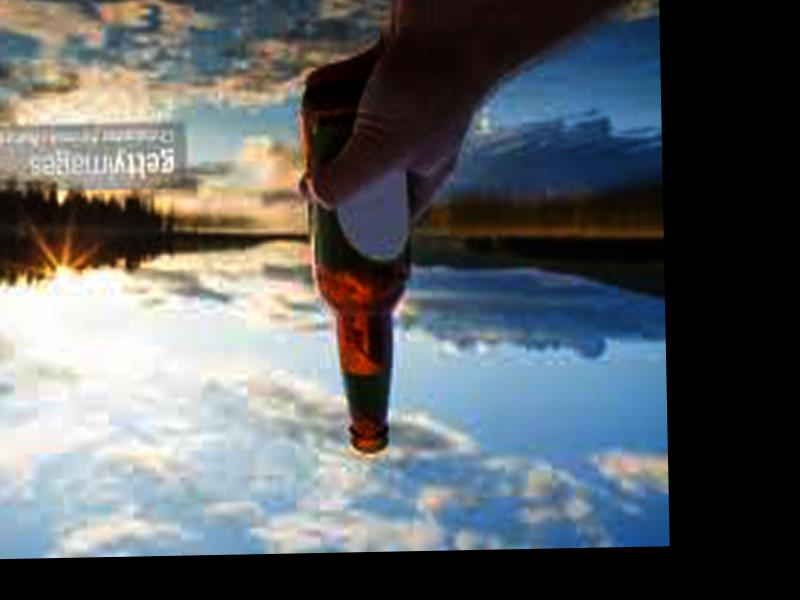Beer: (299, 85, 417, 454)
